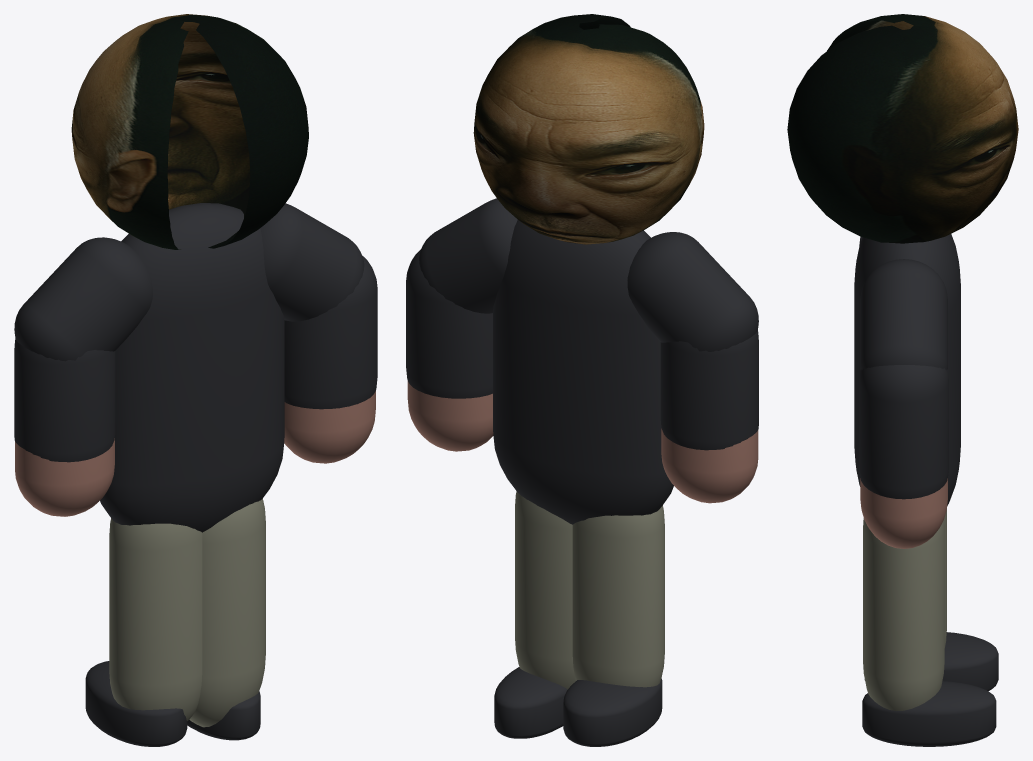
File: MiddleAgedWoman.fbx
3 renders of one model, left to right at view 1: azimuth 30°, elevation 25°; view 2: azimuth 150°, elevation 25°; view 3: azimuth 270°, elevation 25°, orthographic. The views are drawn at different scales.
Parts seen in each view (by area): view 1: Torso, Sphere__1_, Capsule__3_, Capsule__4_, Capsule__6__1, Capsule__1_, Capsule__2_, Capsule__7_, Capsule__8_, Capsule__9_, Capsule__5_, Capsule__6_; view 2: Torso, Sphere__1_, Capsule__3_, Capsule__6__1, Capsule__1_, Capsule__4_, Capsule__2_, Capsule__7_, Capsule__5_, Capsule__8_, Capsule__9_, Capsule__6_; view 3: Sphere__1_, Capsule__4_, Capsule__2_, Capsule__7_, Torso, Capsule__6_, Capsule__9_, Capsule__5_, Capsule__3_.
Part boxes in pixels (x1,y1,x2,y2): Torso: [100, 203, 284, 532]; Sphere__1_: [71, 14, 308, 249]; Capsule__3_: [109, 518, 202, 720]; Capsule__4_: [189, 498, 265, 727]; Capsule__6__1: [14, 237, 152, 361]; Capsule__1_: [14, 338, 115, 462]; Capsule__2_: [284, 256, 377, 409]; Capsule__7_: [260, 203, 364, 321]; Capsule__8_: [15, 438, 114, 516]; Capsule__9_: [284, 391, 375, 463]; Capsule__5_: [85, 661, 187, 746]; Capsule__6_: [187, 691, 260, 740]; Torso: [493, 219, 673, 524]; Sphere__1_: [473, 14, 704, 244]; Capsule__3_: [572, 505, 664, 687]; Capsule__6__1: [627, 232, 758, 351]; Capsule__1_: [660, 329, 758, 450]; Capsule__4_: [515, 491, 575, 689]; Capsule__2_: [406, 249, 492, 398]; Capsule__7_: [419, 198, 517, 313]; Capsule__5_: [563, 678, 662, 746]; Capsule__8_: [661, 428, 758, 503]; Capsule__9_: [407, 381, 493, 451]; Capsule__6_: [494, 667, 567, 738]; Sphere__1_: [787, 14, 1018, 243]; Capsule__4_: [863, 518, 944, 710]; Capsule__2_: [859, 365, 948, 499]; Capsule__7_: [860, 259, 947, 370]; Torso: [854, 234, 960, 505]; Capsule__6_: [862, 681, 996, 746]; Capsule__9_: [860, 478, 947, 548]; Capsule__5_: [864, 632, 998, 691]; Capsule__3_: [944, 509, 946, 647].
Size of the model in its own units: 103 by 201 by 60.46.
Materials: 4 (1 with a texture image).
